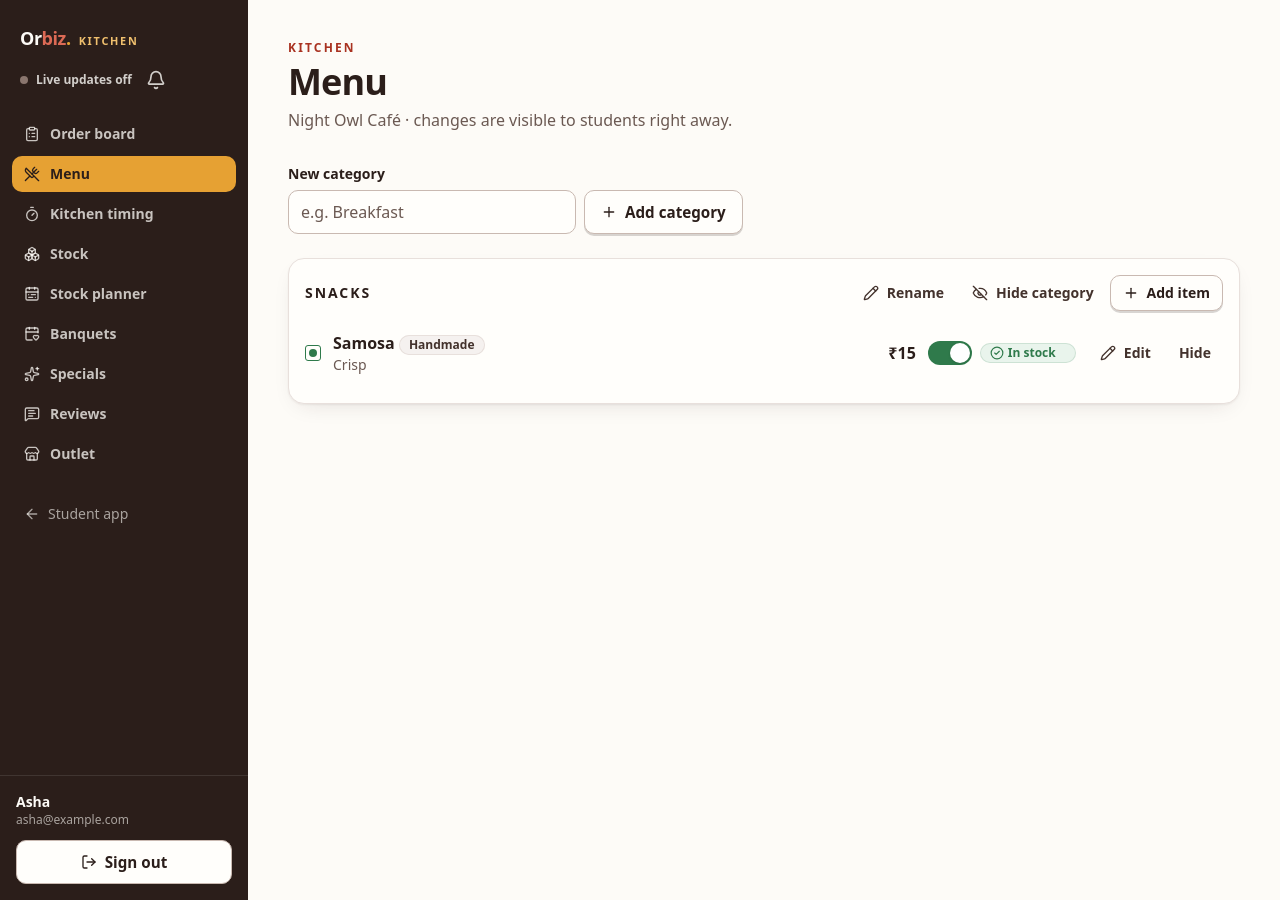
Test case: menu management › rejects invalid prices before sending anything
The image size is (1280, 900).
Click the button with aria-label "Edit Samosa".
click(1125, 353)  # box [1088,335,1163,371]
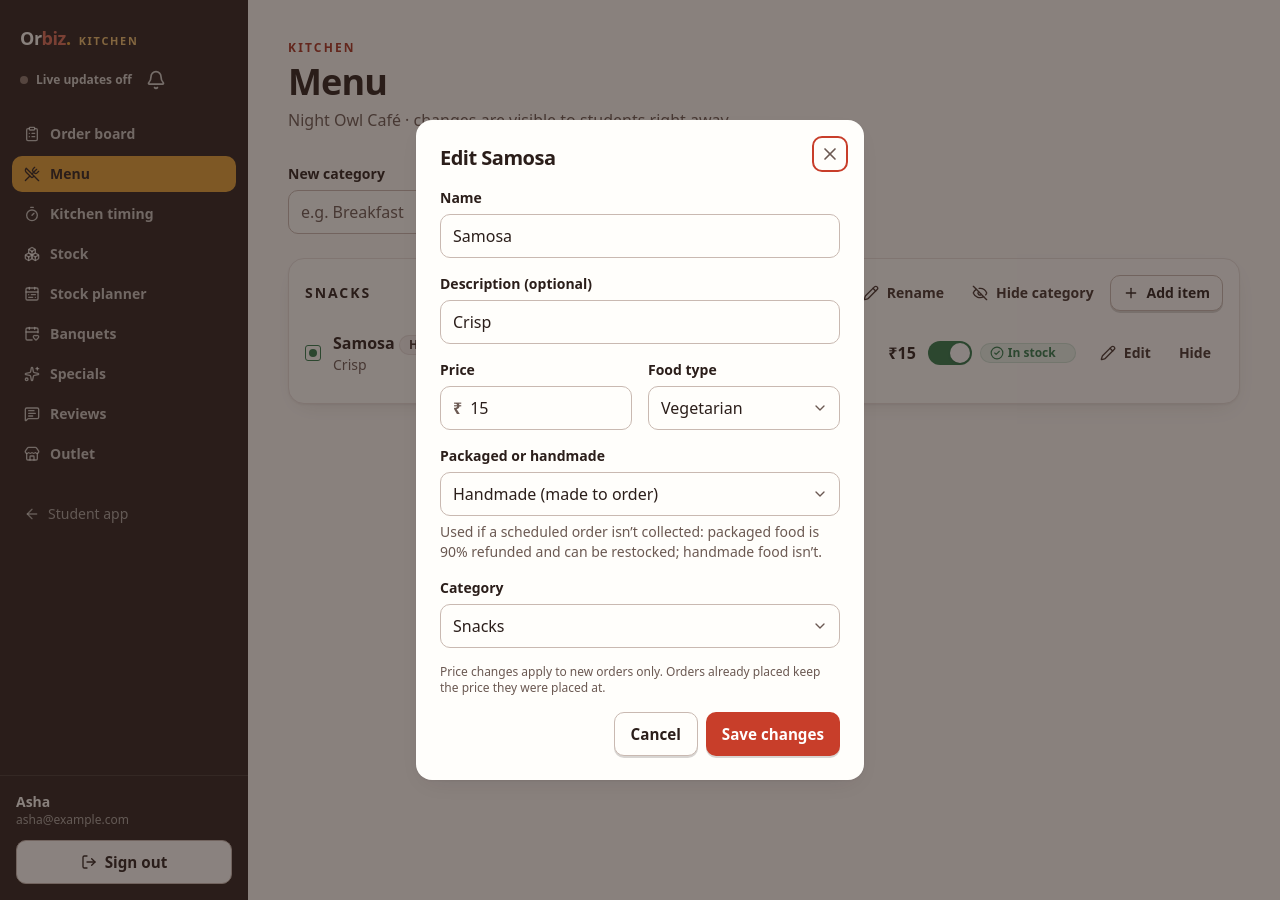
Check: the field labelled "Price" holds "15"
Replace the text in the field labelled "Price" with "12.345" at (545, 408), box [470,387,619,429]
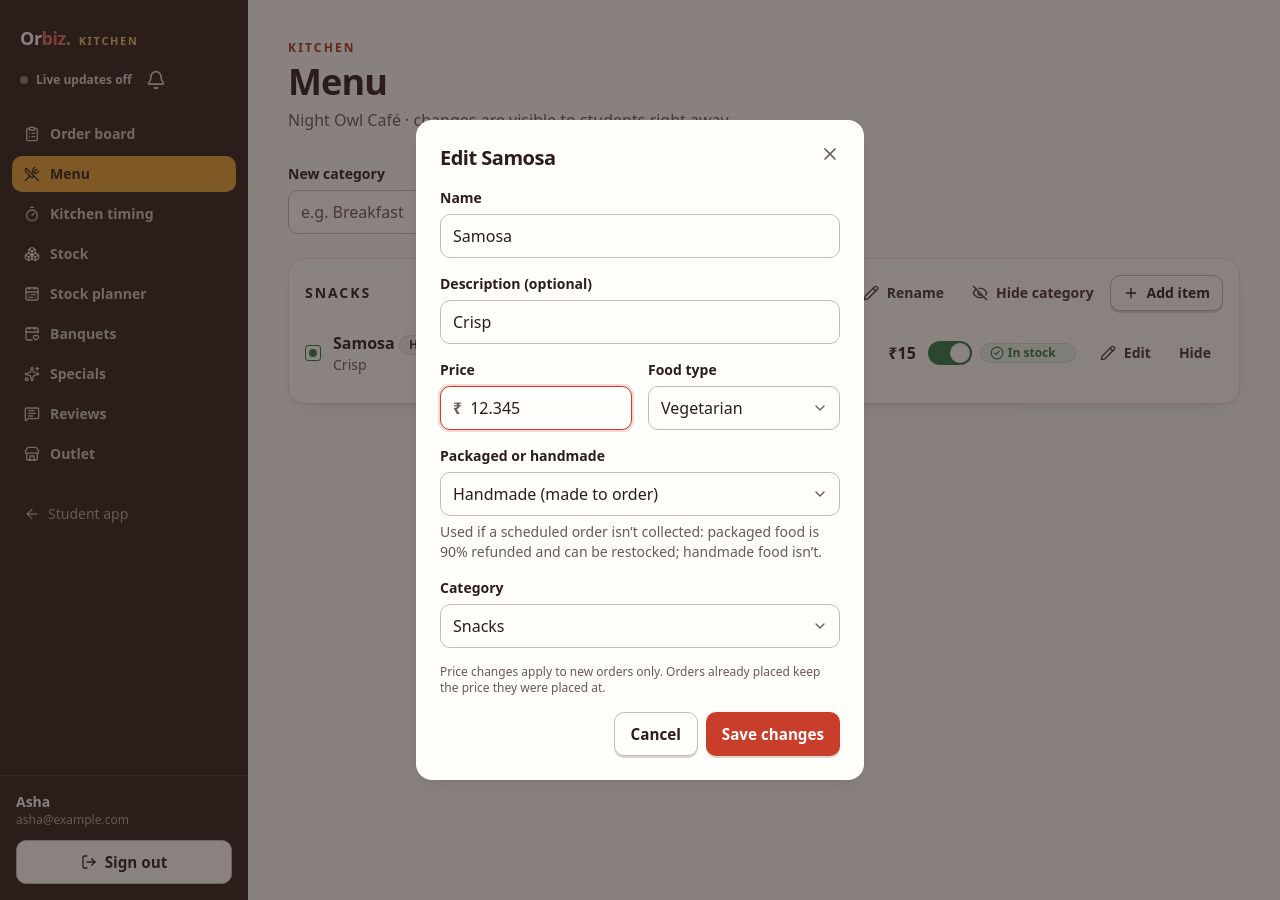
Click the button "Save changes".
click(773, 734)  # box [706,712,840,756]
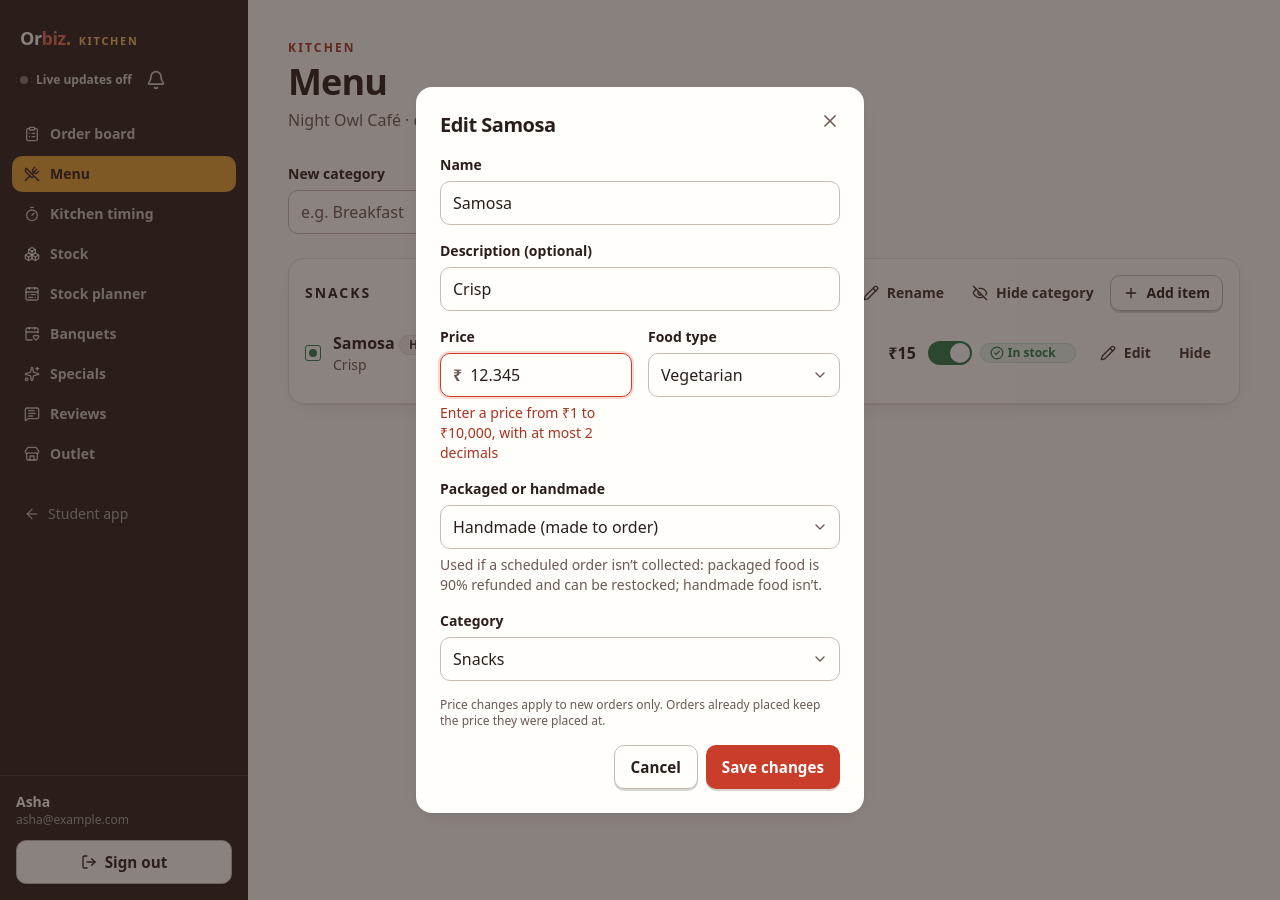
Check: the text "Enter a price from ₹1 to ₹10,000, with at most 2 decimals" is shown, box [440,403,595,462]
